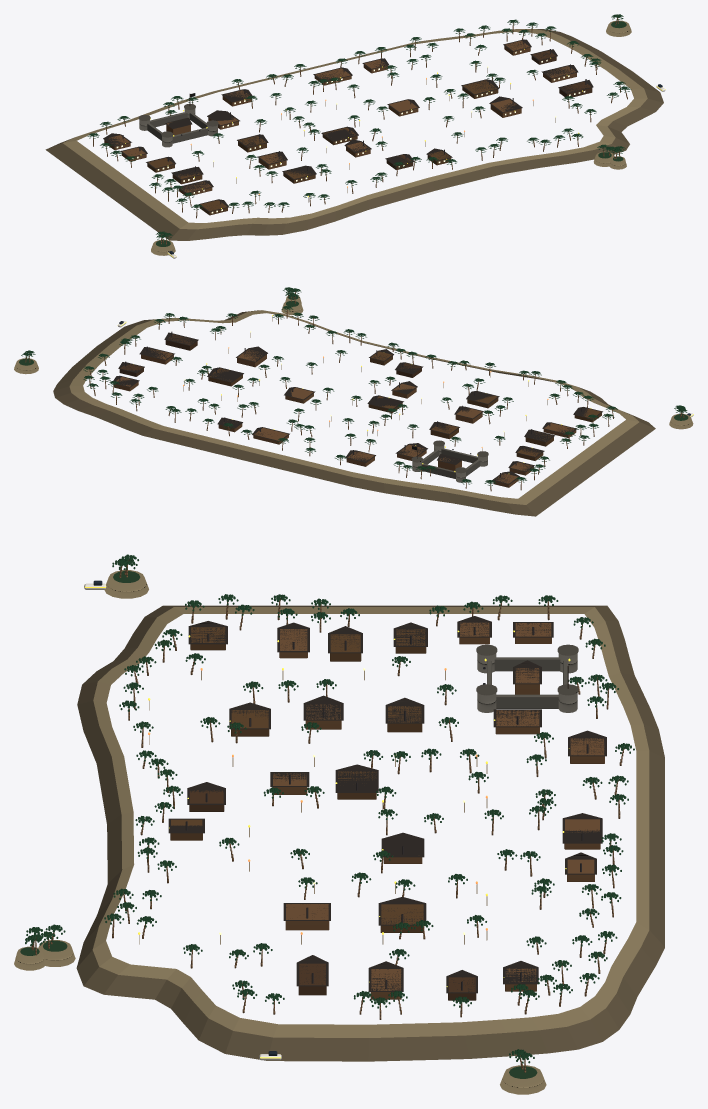
File: by_pirat.glb
The picture shows the model from 3 angles, top to bottom: view 1: azimuth 30°, elevation 25°; view 2: azimuth 150°, elevation 25°; view 3: azimuth 270°, elevation 25°; orthographic projection. The views are drawn at different scales.
Parts seen in each view (by area): view 1: Stranden_net, Byen_net, Palmer_net, Fortet_net, Holme_net, Holmtraer_net; view 2: Stranden_net, Byen_net, Palmer_net, Fortet_net, Holme_net; view 3: Stranden_net, Byen_net, Palmer_net, Fortet_net, Holme_net, Holmtraer_net.
Boxes of the visible parts, <box> form: Stranden_net: <box>45,29,663,240</box>; Byen_net: <box>103,39,593,215</box>; Palmer_net: <box>87,19,631,218</box>; Fortet_net: <box>138,93,218,147</box>; Holme_net: <box>151,20,631,255</box>; Holmtraer_net: <box>156,14,625,244</box>; Stranden_net: <box>53,310,655,516</box>; Byen_net: <box>113,331,602,487</box>; Palmer_net: <box>83,306,617,491</box>; Fortet_net: <box>411,440,488,482</box>; Holme_net: <box>14,296,693,429</box>; Stranden_net: <box>76,605,664,1061</box>; Byen_net: <box>168,616,606,1000</box>; Palmer_net: <box>104,594,634,1019</box>; Fortet_net: <box>476,644,578,712</box>; Holme_net: <box>14,570,546,1094</box>; Holmtraer_net: <box>25,554,534,1072</box>.
Size of the model in its own units: 97.34 by 5 by 54.37.
